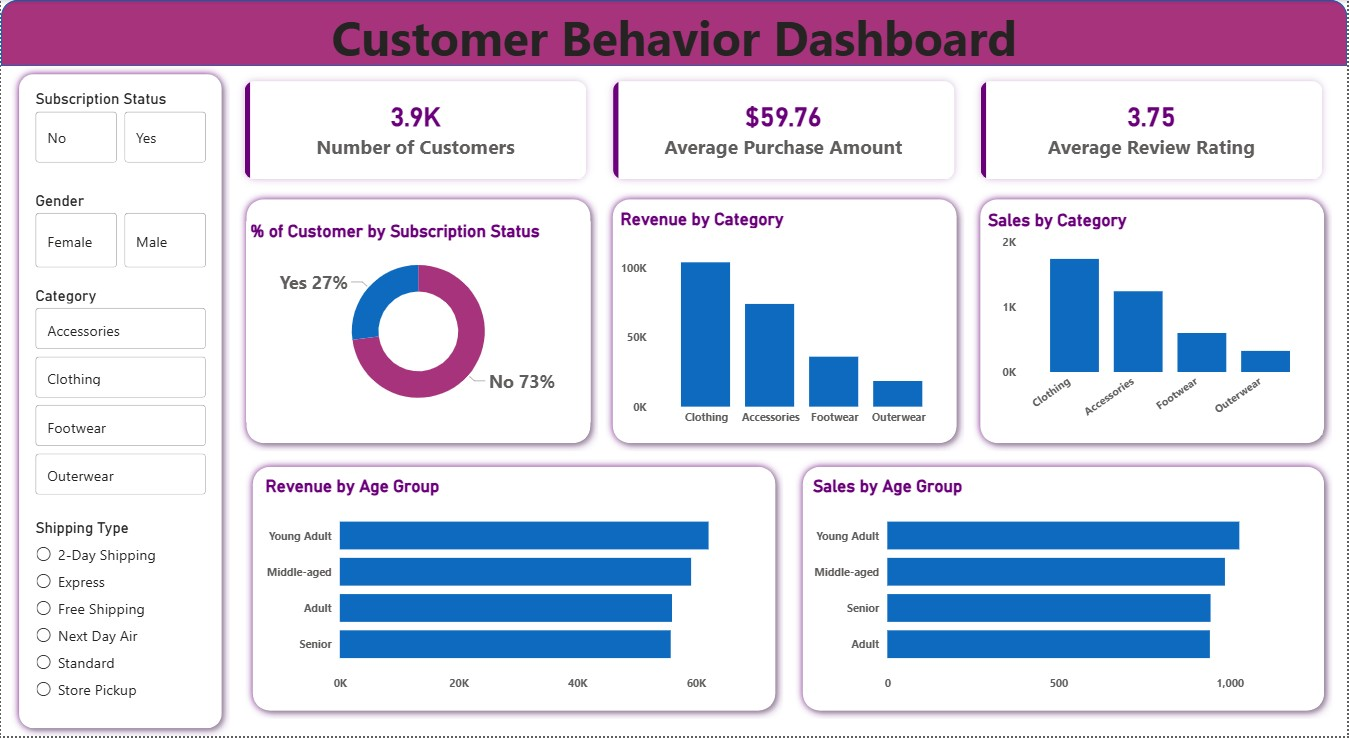

The page's visual inventory and layout, read from the dashboard file:
{"tool":"powerbi","page":{"name":"Page 1","canvas":[1500,820],"ordinal":0},"visuals":[{"type":"cardVisual","fields":{"Data":["public customer.Number of Customers","public customer.Average Purchase Amount","public customer.Average Review Rating"]},"box":[243.7,62.7,1256.2,165.7],"z":0},{"type":"shape","box":[0,0,1499.9,73.8],"z":1000},{"type":"textbox","box":[0,0,1499.9,100.3],"z":2000},{"type":"shape","box":[264.6,213.1,401.1,289.7],"z":3000},{"type":"donutChart","title":"% of Customer by Subscription Status","fields":{"Category":["public customer.subscription_status"],"Y":["CountNonNull(public customer.customer_id)"]},"box":[273,246.5,384.4,224.2],"z":4000},{"type":"shape","box":[673.4,213.1,401.1,289.7],"z":7000},{"type":"shape","box":[1082.1,213.1,401.1,289.7],"z":8000},{"type":"clusteredColumnChart","title":"Revenue by Category","fields":{"Y":["Sum(public customer.purchase_amount)"],"Category":["public customer.category"]},"box":[685.2,232.6,377.4,250.7],"z":8001},{"type":"clusteredColumnChart","title":"Sales by Category","fields":{"Y":["CountNonNull(public customer.customer_id)"],"Category":["public customer.category"]},"box":[1094.6,234,377.4,250.7],"z":8002},{"type":"shape","box":[11.1,73.8,243.7,746.5],"z":8003},{"type":"advancedSlicerVisual","fields":{"Values":["public customer.subscription_status"]},"box":[33.4,100.3,200.5,86.3],"z":8004},{"type":"advancedSlicerVisual","fields":{"Values":["public customer.gender"]},"box":[33.4,213.1,200.5,90.5],"z":8005},{"type":"advancedSlicerVisual","fields":{"Values":["public customer.category"]},"box":[33.4,318.9,200.5,238.1],"z":8006},{"type":"listSlicer","fields":{"Values":["public customer.shipping_type"]},"box":[33.4,578,200.5,222.8],"z":8007},{"type":"shape","box":[271.6,511.1,600.2,289.7],"z":8009},{"type":"clusteredBarChart","title":"Revenue by Age Group","fields":{"Y":["Sum(public customer.purchase_amount)"],"Category":["public customer.age_group"]},"box":[289.7,530.6,566.8,249.3],"z":8010},{"type":"shape","box":[884.3,511.1,598.8,289.7],"z":8011},{"type":"clusteredBarChart","title":"Sales by Age Group","fields":{"Y":["CountNonNull(public customer.customer_id)"],"Category":["public customer.age_group"]},"box":[899.7,530.6,566.8,249.3],"z":8012}]}

Visuals, with their boxes in screenshot pixels (x1, y1, x2, y2), scaled from the page's 1500x820 canvas onto the 1349x738 screenshot:
cardVisual - public customer.Number of Customers x public customer.Average Purchase Amount: locate(219, 56, 1348, 206)
shape: locate(0, 0, 1348, 66)
textbox: locate(0, 0, 1348, 90)
shape: locate(238, 192, 599, 453)
"% of Customer by Subscription Status" donutChart: locate(246, 222, 591, 424)
shape: locate(606, 192, 966, 453)
shape: locate(973, 192, 1334, 453)
"Revenue by Category" clusteredColumnChart: locate(616, 209, 956, 435)
"Sales by Category" clusteredColumnChart: locate(984, 211, 1324, 436)
shape: locate(10, 66, 229, 737)
advancedSlicerVisual - public customer.subscription_status: locate(30, 90, 210, 168)
advancedSlicerVisual - public customer.gender: locate(30, 192, 210, 273)
advancedSlicerVisual - public customer.category: locate(30, 287, 210, 501)
listSlicer - public customer.shipping_type: locate(30, 520, 210, 721)
shape: locate(244, 460, 784, 721)
"Revenue by Age Group" clusteredBarChart: locate(261, 478, 770, 702)
shape: locate(795, 460, 1334, 721)
"Sales by Age Group" clusteredBarChart: locate(809, 478, 1319, 702)
